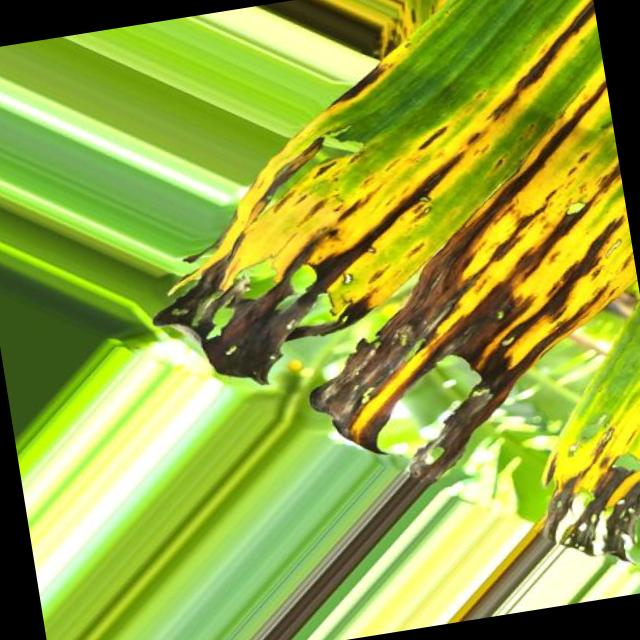Banana_Black_Sigatoka: (160, 44, 640, 448), (421, 392, 640, 550)
